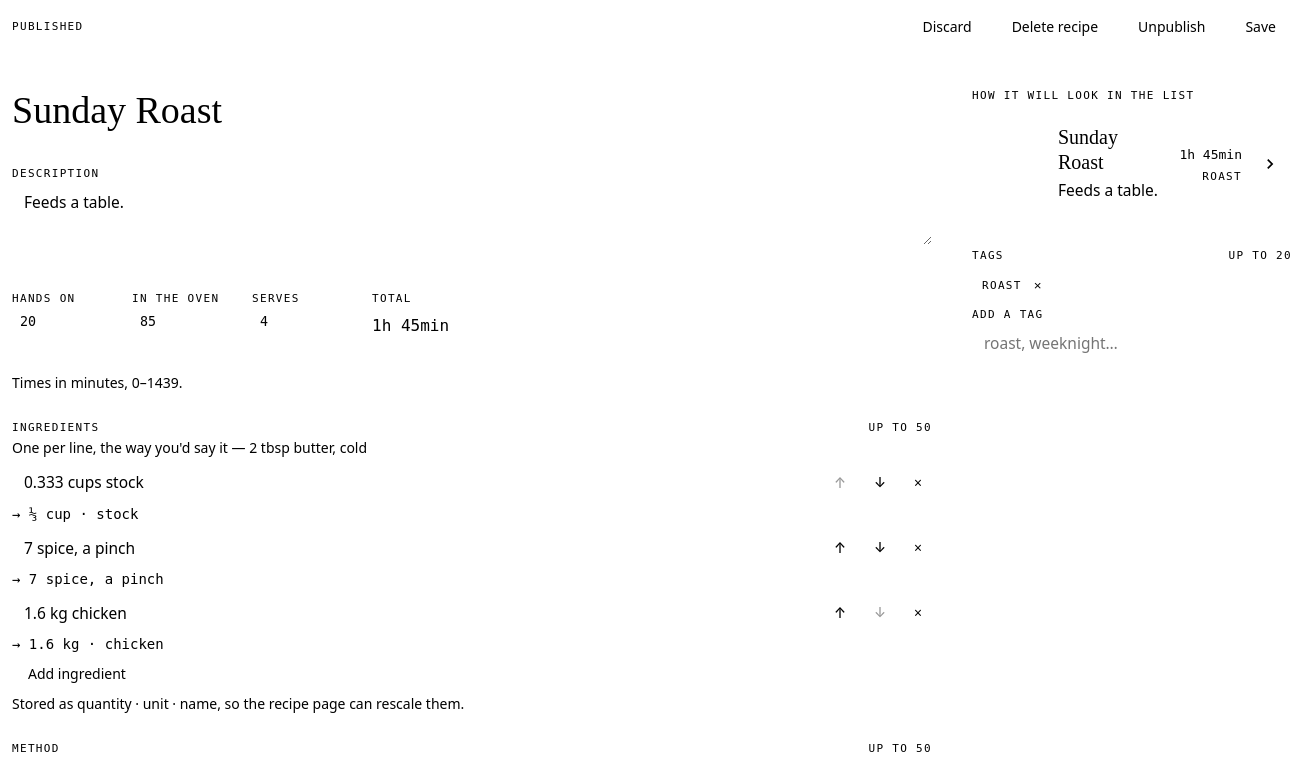
it: RecipeFormPage — existing recipe › unpublishes before saving, so the edit is checked as a draft
Clear the text box labelled "Description": [472, 214] box [12,183,932,245]
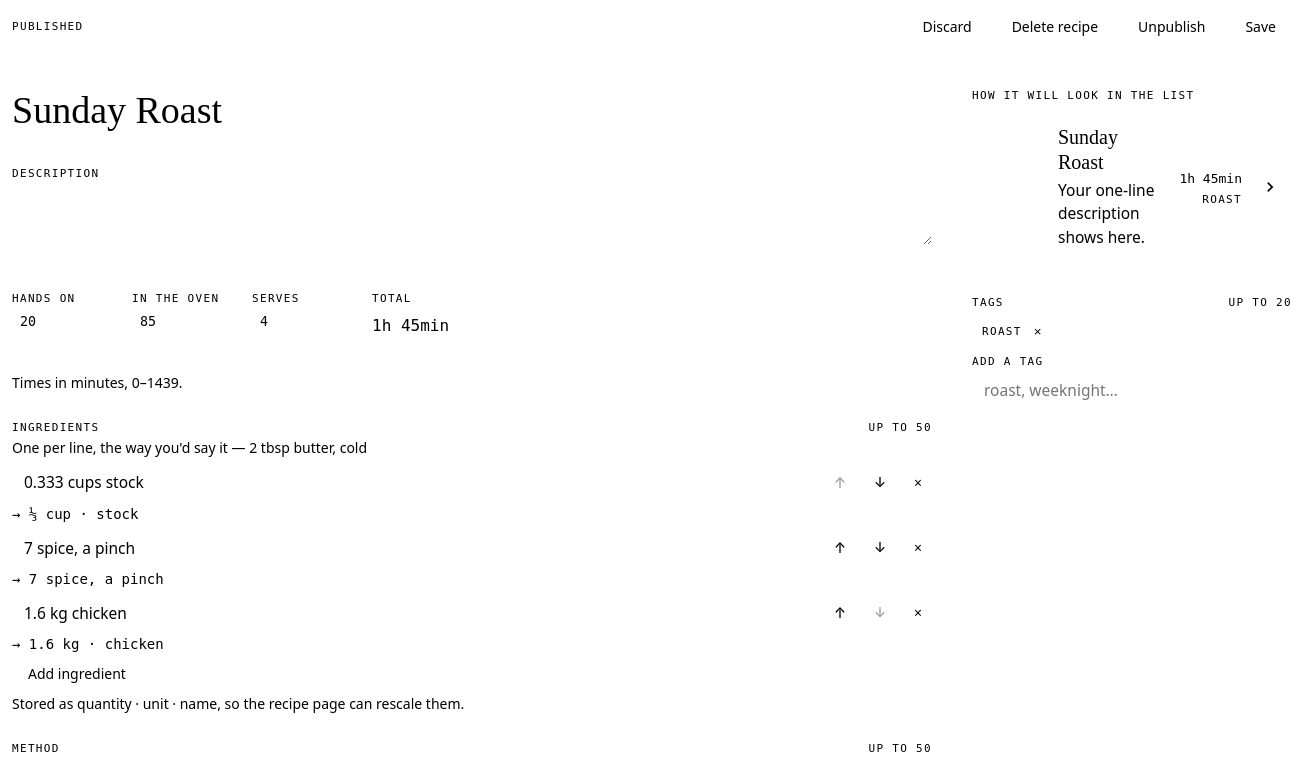
Click the button "Unpublish": [1172, 27] box [1122,12,1221,42]
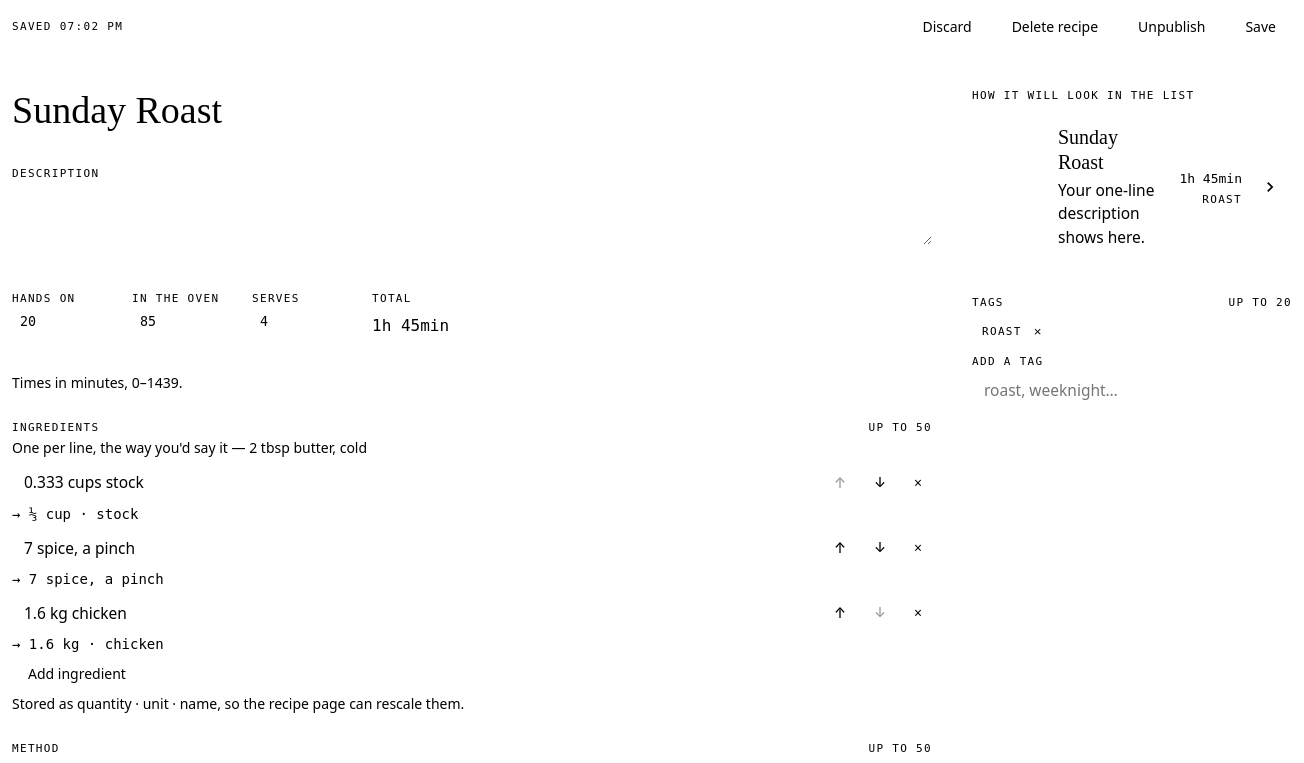
expect the text "Saved 07:02 PM" is shown: met, box [12,22,123,32]
